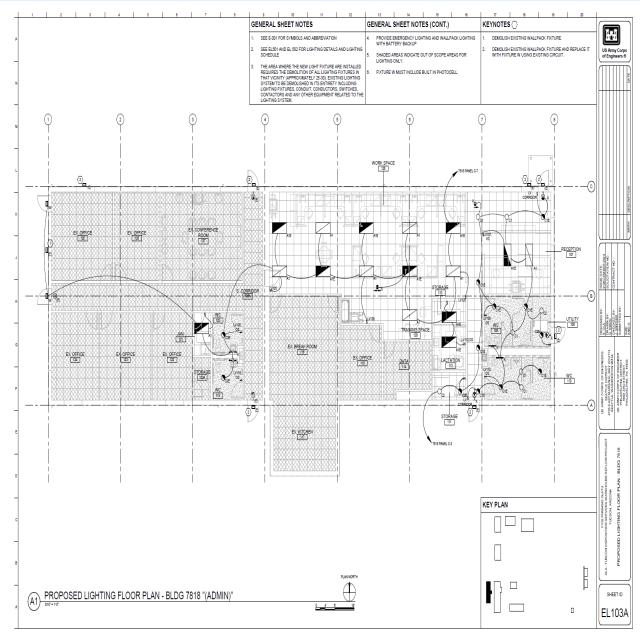Emergency Light: (178, 314, 212, 344), (263, 252, 289, 286), (354, 213, 384, 241), (267, 223, 305, 242), (521, 236, 538, 278), (401, 257, 424, 287), (397, 302, 425, 325), (399, 217, 425, 241), (440, 332, 460, 359), (446, 221, 467, 246), (446, 258, 464, 286), (356, 263, 382, 282), (440, 307, 460, 329), (312, 220, 336, 238), (500, 238, 513, 271), (78, 182, 98, 202), (313, 262, 333, 280), (453, 385, 468, 404), (245, 401, 262, 417), (217, 373, 232, 390), (475, 342, 489, 360), (489, 303, 507, 316), (248, 179, 263, 193), (42, 244, 54, 260), (217, 331, 233, 343), (534, 365, 546, 381), (496, 380, 506, 399), (473, 383, 483, 401), (536, 305, 551, 317), (42, 291, 53, 307), (473, 274, 482, 293), (536, 326, 546, 343), (541, 327, 551, 344), (522, 178, 534, 192), (538, 209, 548, 225), (248, 392, 261, 404), (470, 390, 481, 404), (512, 365, 524, 377), (434, 384, 444, 398), (464, 405, 481, 413), (504, 212, 514, 225), (515, 382, 528, 391), (521, 304, 531, 314), (509, 327, 516, 340), (551, 332, 560, 342), (539, 178, 546, 190), (476, 212, 480, 226)
